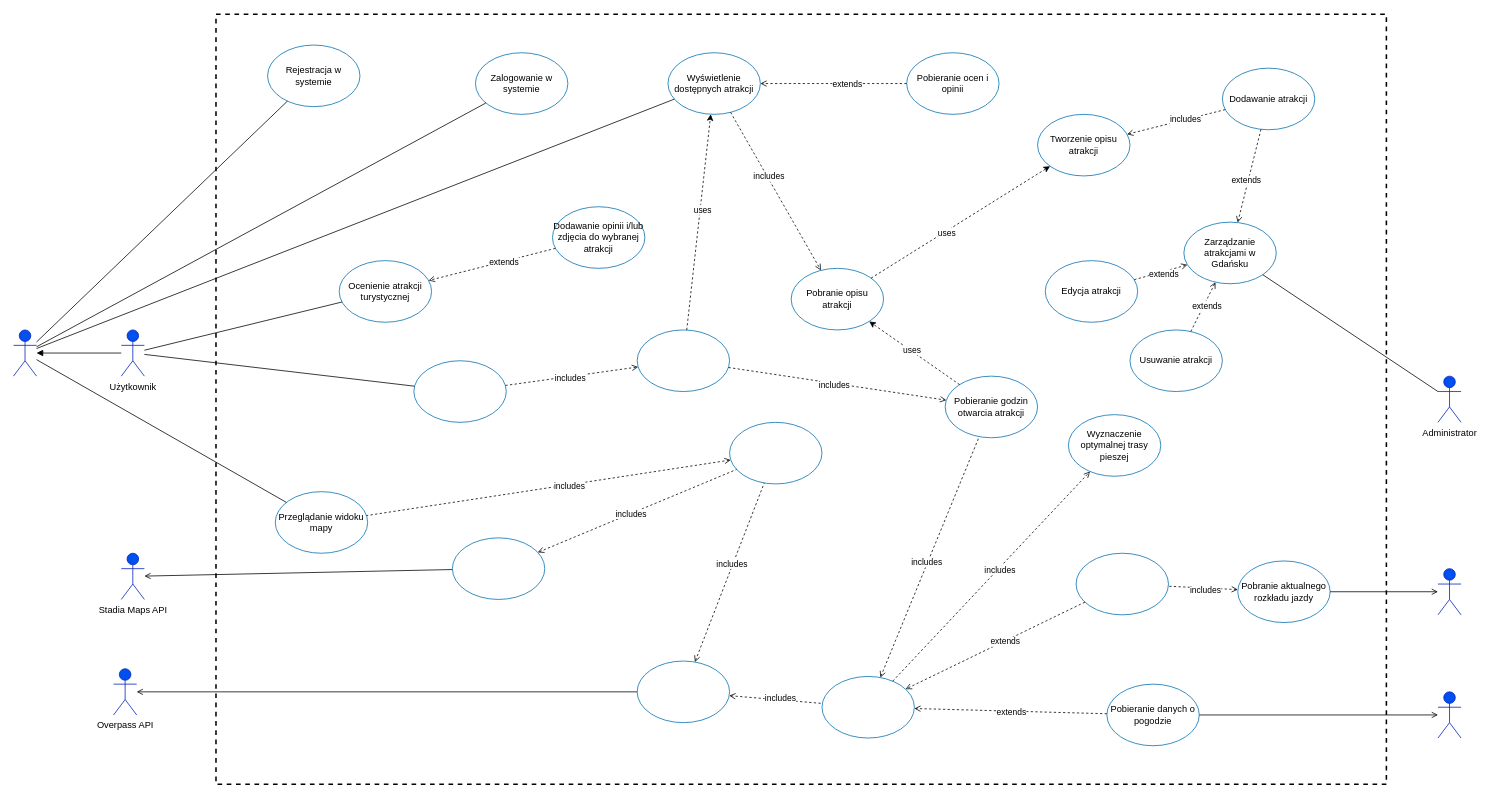
The diagram is 1500 pixels wide and 798 high, and some of its shapes have lost their labels. The shapes that lost their labels are listed below. From the top down, each one's centre as x and y in pixels, then its label:
At (x=25, y=352): "Gość".
At (x=683, y=360): "Wybieranie atrakcji".
At (x=459, y=391): "Tworzenie planu zwiedzania".
At (x=775, y=453): "Generowanie widoku mapy".
At (x=498, y=568): "Generowanie podkładu mapy".
At (x=1121, y=583): "Wyznaczenie optymalnej trasy z udziałem komunikacji miejskiej".
At (x=1449, y=591): "API MZK Gdańsk".
At (x=683, y=691): "Naniesienie punktów na mapę".
At (x=867, y=707): "Wyznaczenie optymalnej trasy".
At (x=1449, y=714): "OpenWeather API".
